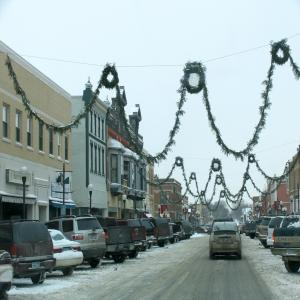Vehicle-registration-plate: (33, 263, 41, 270)
